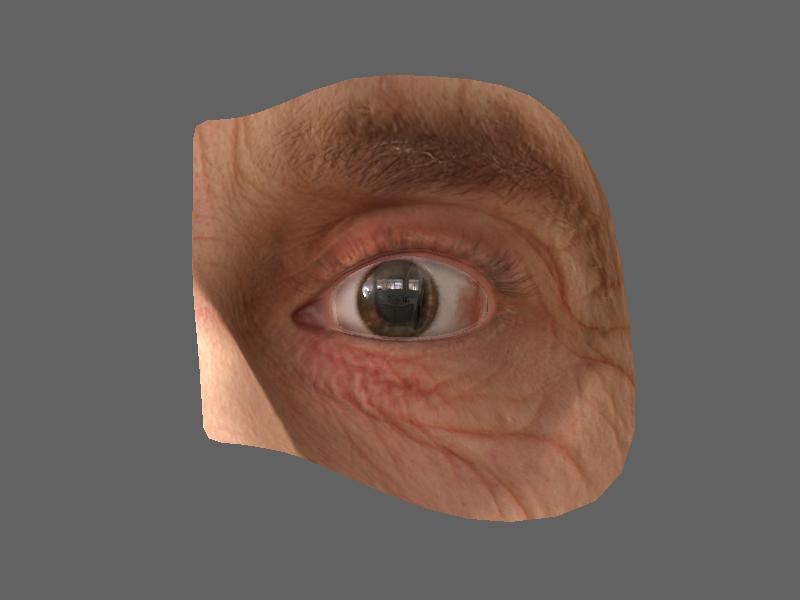iris: (349, 266, 451, 335)
